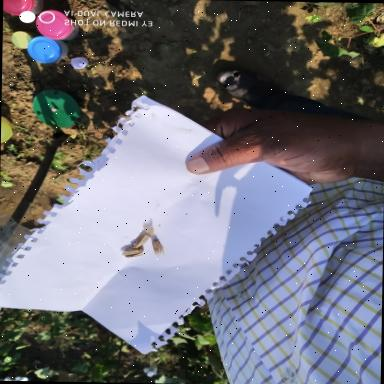abw: (150, 239, 168, 257), (130, 234, 150, 250), (120, 246, 144, 259), (142, 222, 157, 239)
